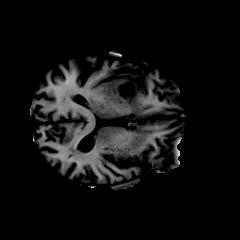glioma: (84, 64, 144, 107)
